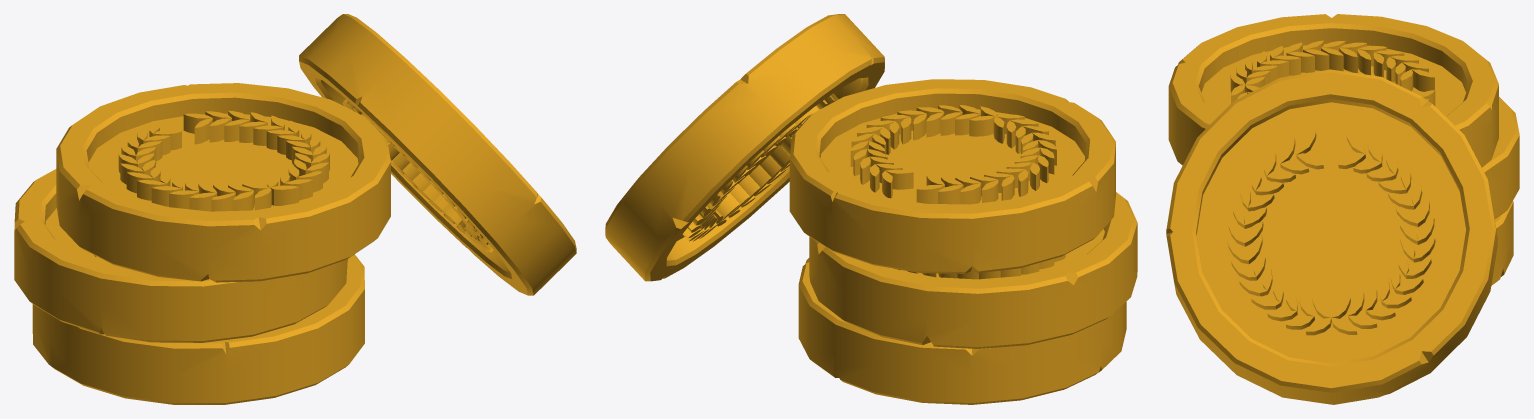
Rendered from coins.fbx.
The picture shows the model from 3 angles, left to right: view 1: azimuth 30°, elevation 25°; view 2: azimuth 150°, elevation 25°; view 3: azimuth 270°, elevation 25°; orthographic projection. The views are drawn at different scales.
Visible parts, largest first — view 1: coin2, coin3, Coin1, Coin; view 2: coin2, coin3, Coin1, Coin; view 3: coin3, coin2, Coin1, Coin.
Boxes of the visible parts, <box> form: coin2: <box>56,83,390,282</box>; coin3: <box>299,14,576,295</box>; Coin1: <box>14,169,347,342</box>; Coin: <box>32,254,364,404</box>; coin2: <box>789,79,1115,273</box>; coin3: <box>605,14,884,281</box>; Coin1: <box>809,192,1137,348</box>; Coin: <box>798,258,1126,404</box>; coin3: <box>1166,69,1497,404</box>; coin2: <box>1168,14,1498,167</box>; Coin1: <box>1482,97,1519,218</box>; Coin: <box>1491,201,1513,285</box>.
Bounding box in the file's own units: 343 × 182 × 214.
